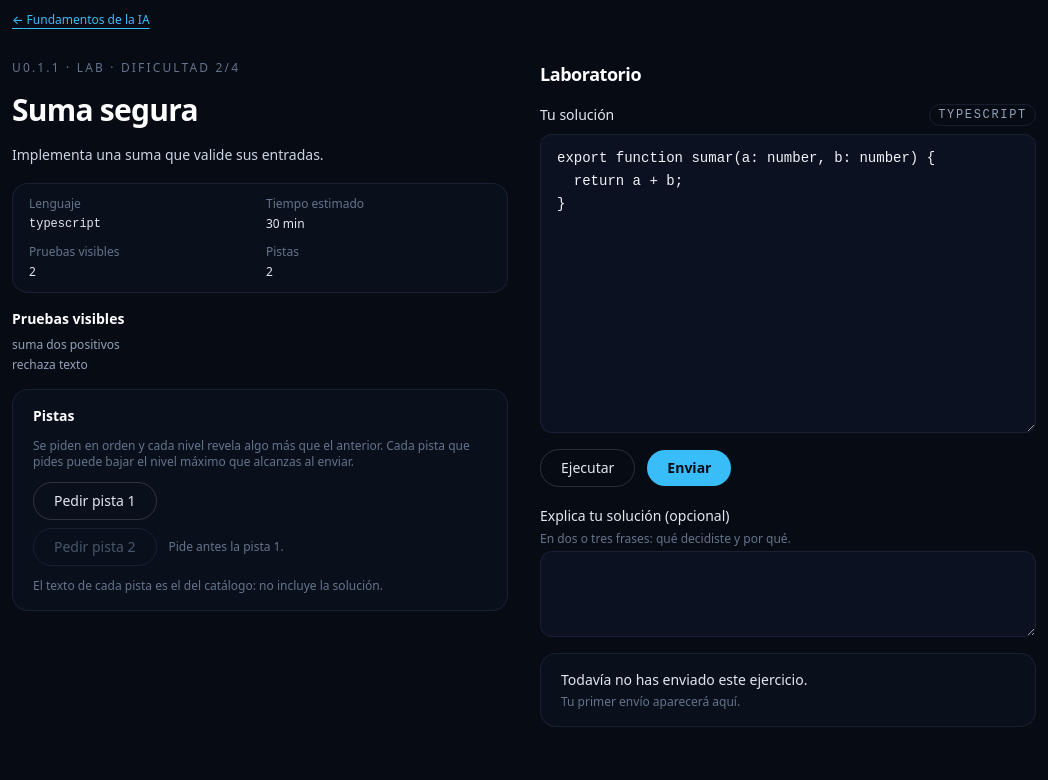
Test: ExerciseLab › ejecuta el archivo del lenguaje con los límites del contrato
Expected: the heading "Suma segura" is shown, [12,89,198,130]
Click the button "Ejecutar": (588, 468) [540,449,635,487]
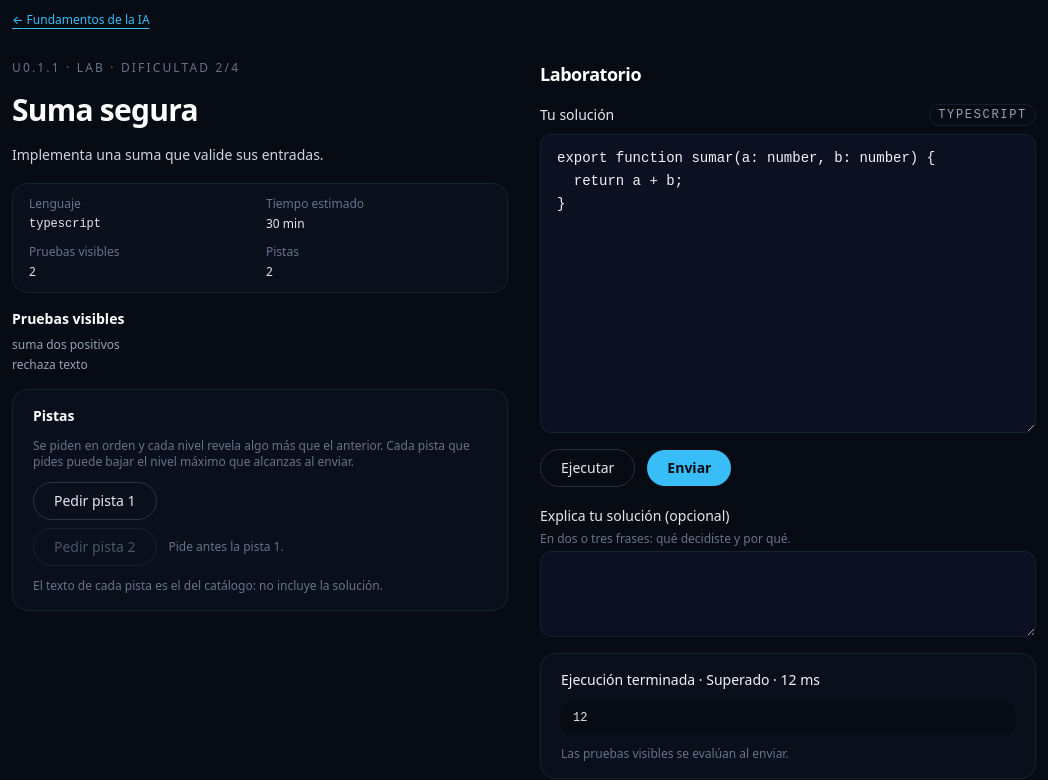
Result: the text "Ejecución terminada · Superado · 12 ms" is shown at [561,670,820,689]
Result: the text "12" is shown at [561,702,1015,734]
